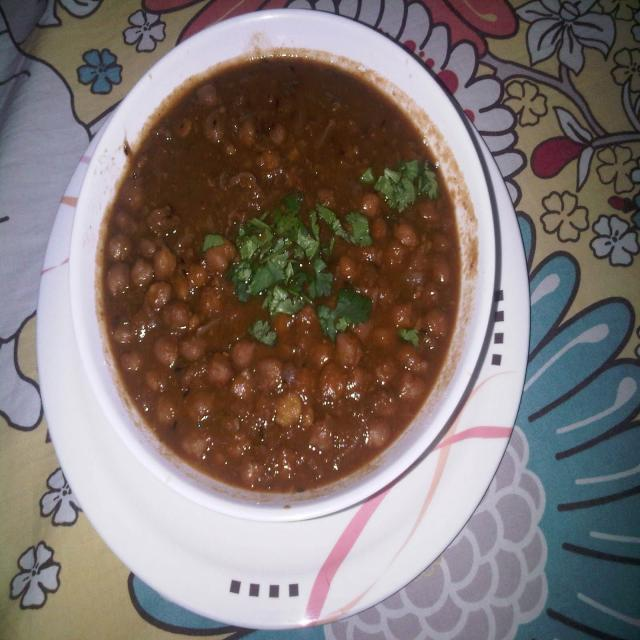Chole: (102, 57, 460, 492)
